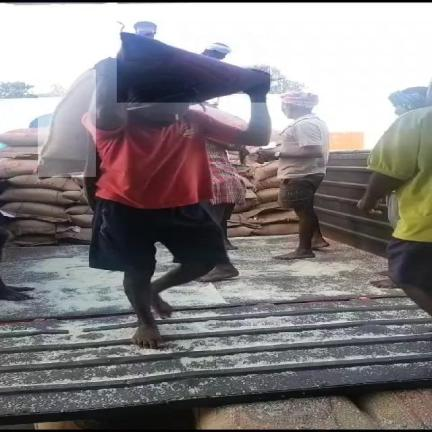Zone-Counting: (38, 32, 271, 346)
